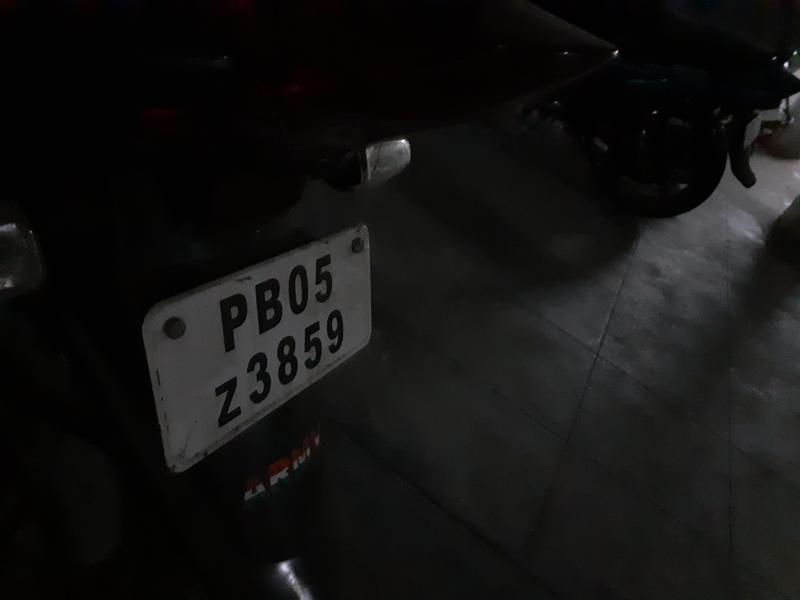numberplate: (148, 231, 376, 466)
